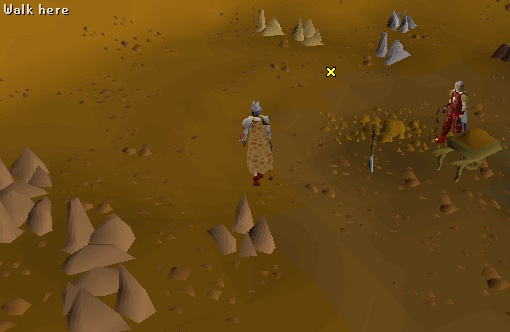clay: (287, 12, 331, 53), (246, 4, 290, 45)
copper: (192, 186, 298, 270), (45, 192, 151, 276)
tin: (366, 26, 421, 75)
